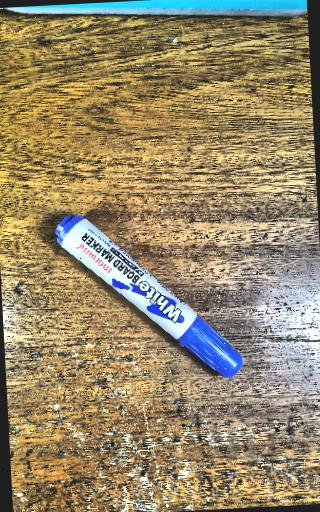marcador azul: (55, 214, 243, 378)
